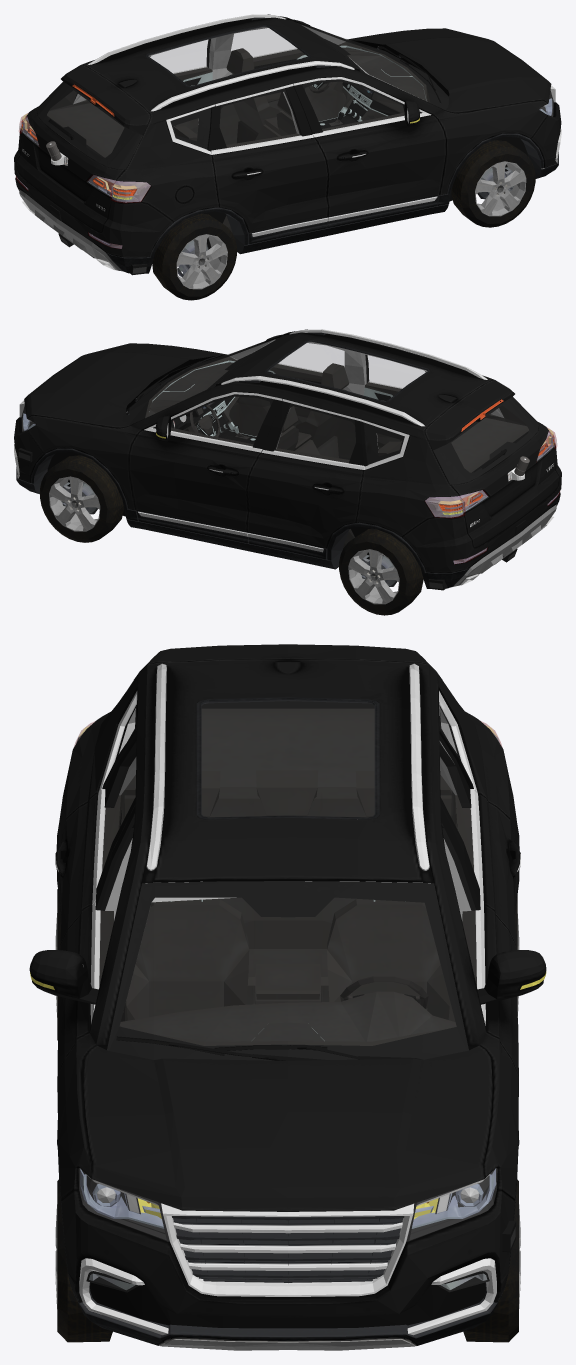
Rendered from sm_suv.fbx.
3 renders of one model, top to bottom at view 1: azimuth 30°, elevation 25°; view 2: azimuth 150°, elevation 25°; view 3: azimuth 270°, elevation 25°, orthographic. The views are drawn at different scales.
Parts seen in each view (by area): view 1: suv; view 2: suv; view 3: suv.
Boxes of the visible parts, box(x1,y1,x2,y2) form: suv: box(14, 14, 561, 300); suv: box(14, 329, 561, 615); suv: box(29, 644, 546, 1350).
Size of the model in its own units: 4.77 by 1.77 by 2.18.
